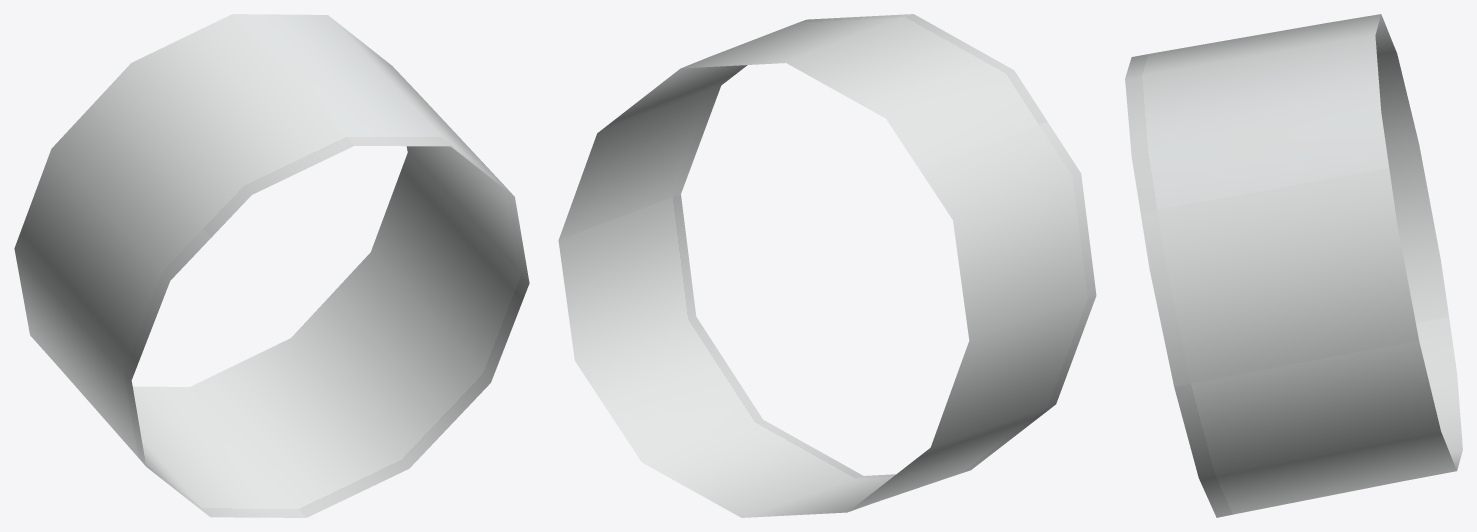
The model's file is luminairearm_laupsweep10ft_c6.obj.
3 views of the same model, side by side, from view 1: azimuth 30°, elevation 25°; view 2: azimuth 150°, elevation 25°; view 3: azimuth 270°, elevation 25° (orthographic). The views are drawn at different scales.
Visible parts, largest first — view 1: luminairearm_laupsweep10ft_c6; view 2: luminairearm_laupsweep10ft_c6; view 3: luminairearm_laupsweep10ft_c6.
Boxes of the visible parts, box(x1,y1,x2,y2) form: luminairearm_laupsweep10ft_c6: box(14, 14, 529, 517); luminairearm_laupsweep10ft_c6: box(558, 14, 1096, 517); luminairearm_laupsweep10ft_c6: box(1125, 14, 1462, 517).
Bounding box in the file's own units: 0.1969 × 0.2126 × 0.1413.
